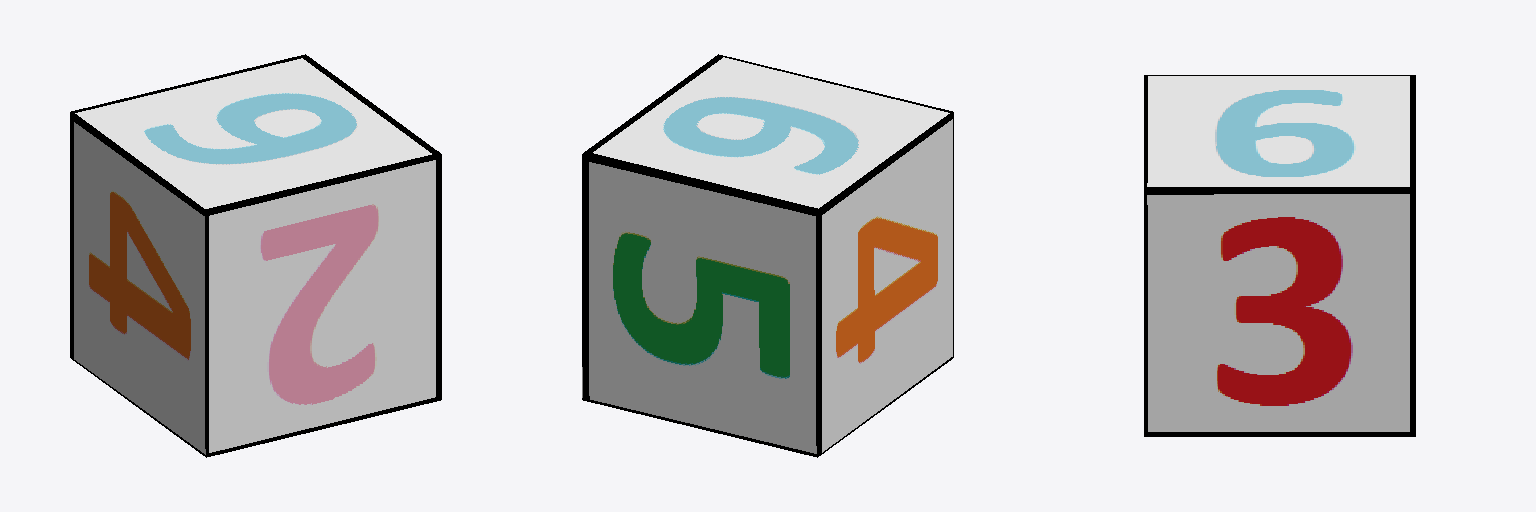
3 renders of one model, left to right at view 1: azimuth 30°, elevation 25°; view 2: azimuth 150°, elevation 25°; view 3: azimuth 270°, elevation 25°, orthographic.
Visible parts, largest first — view 1: Cube; view 2: Cube; view 3: Cube.
Part boxes in pixels (x1,y1,x2,y2): Cube: (70,54,441,457); Cube: (582,54,953,457); Cube: (1144,75,1415,436).
Bounding box in the file's own units: 2 × 2 × 2.
Materials: 1 (1 with a texture image).